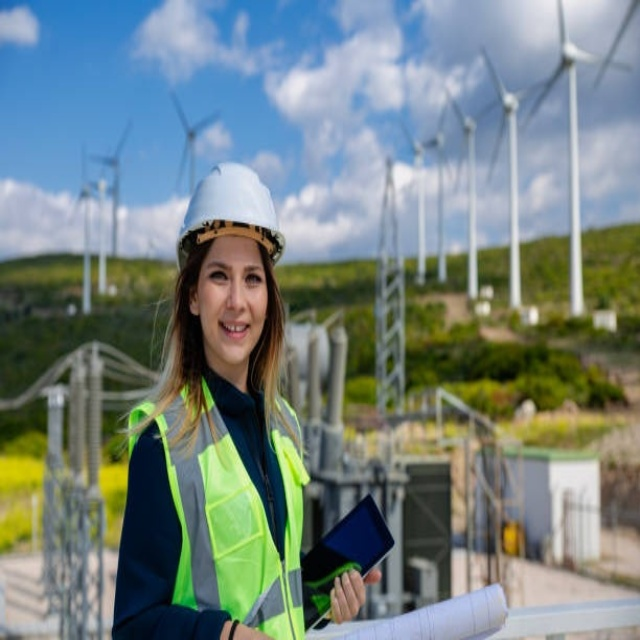Sin_gafas: (202, 251, 271, 295)
Sin_guantes: (326, 567, 381, 625)
Sin_mascara: (212, 312, 256, 350)
